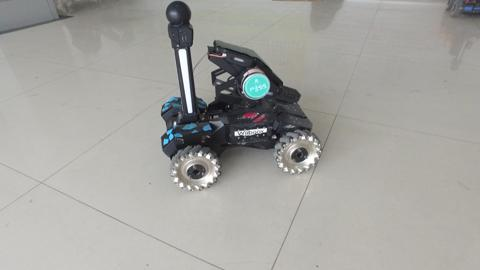chariot: (161, 1, 322, 192)
